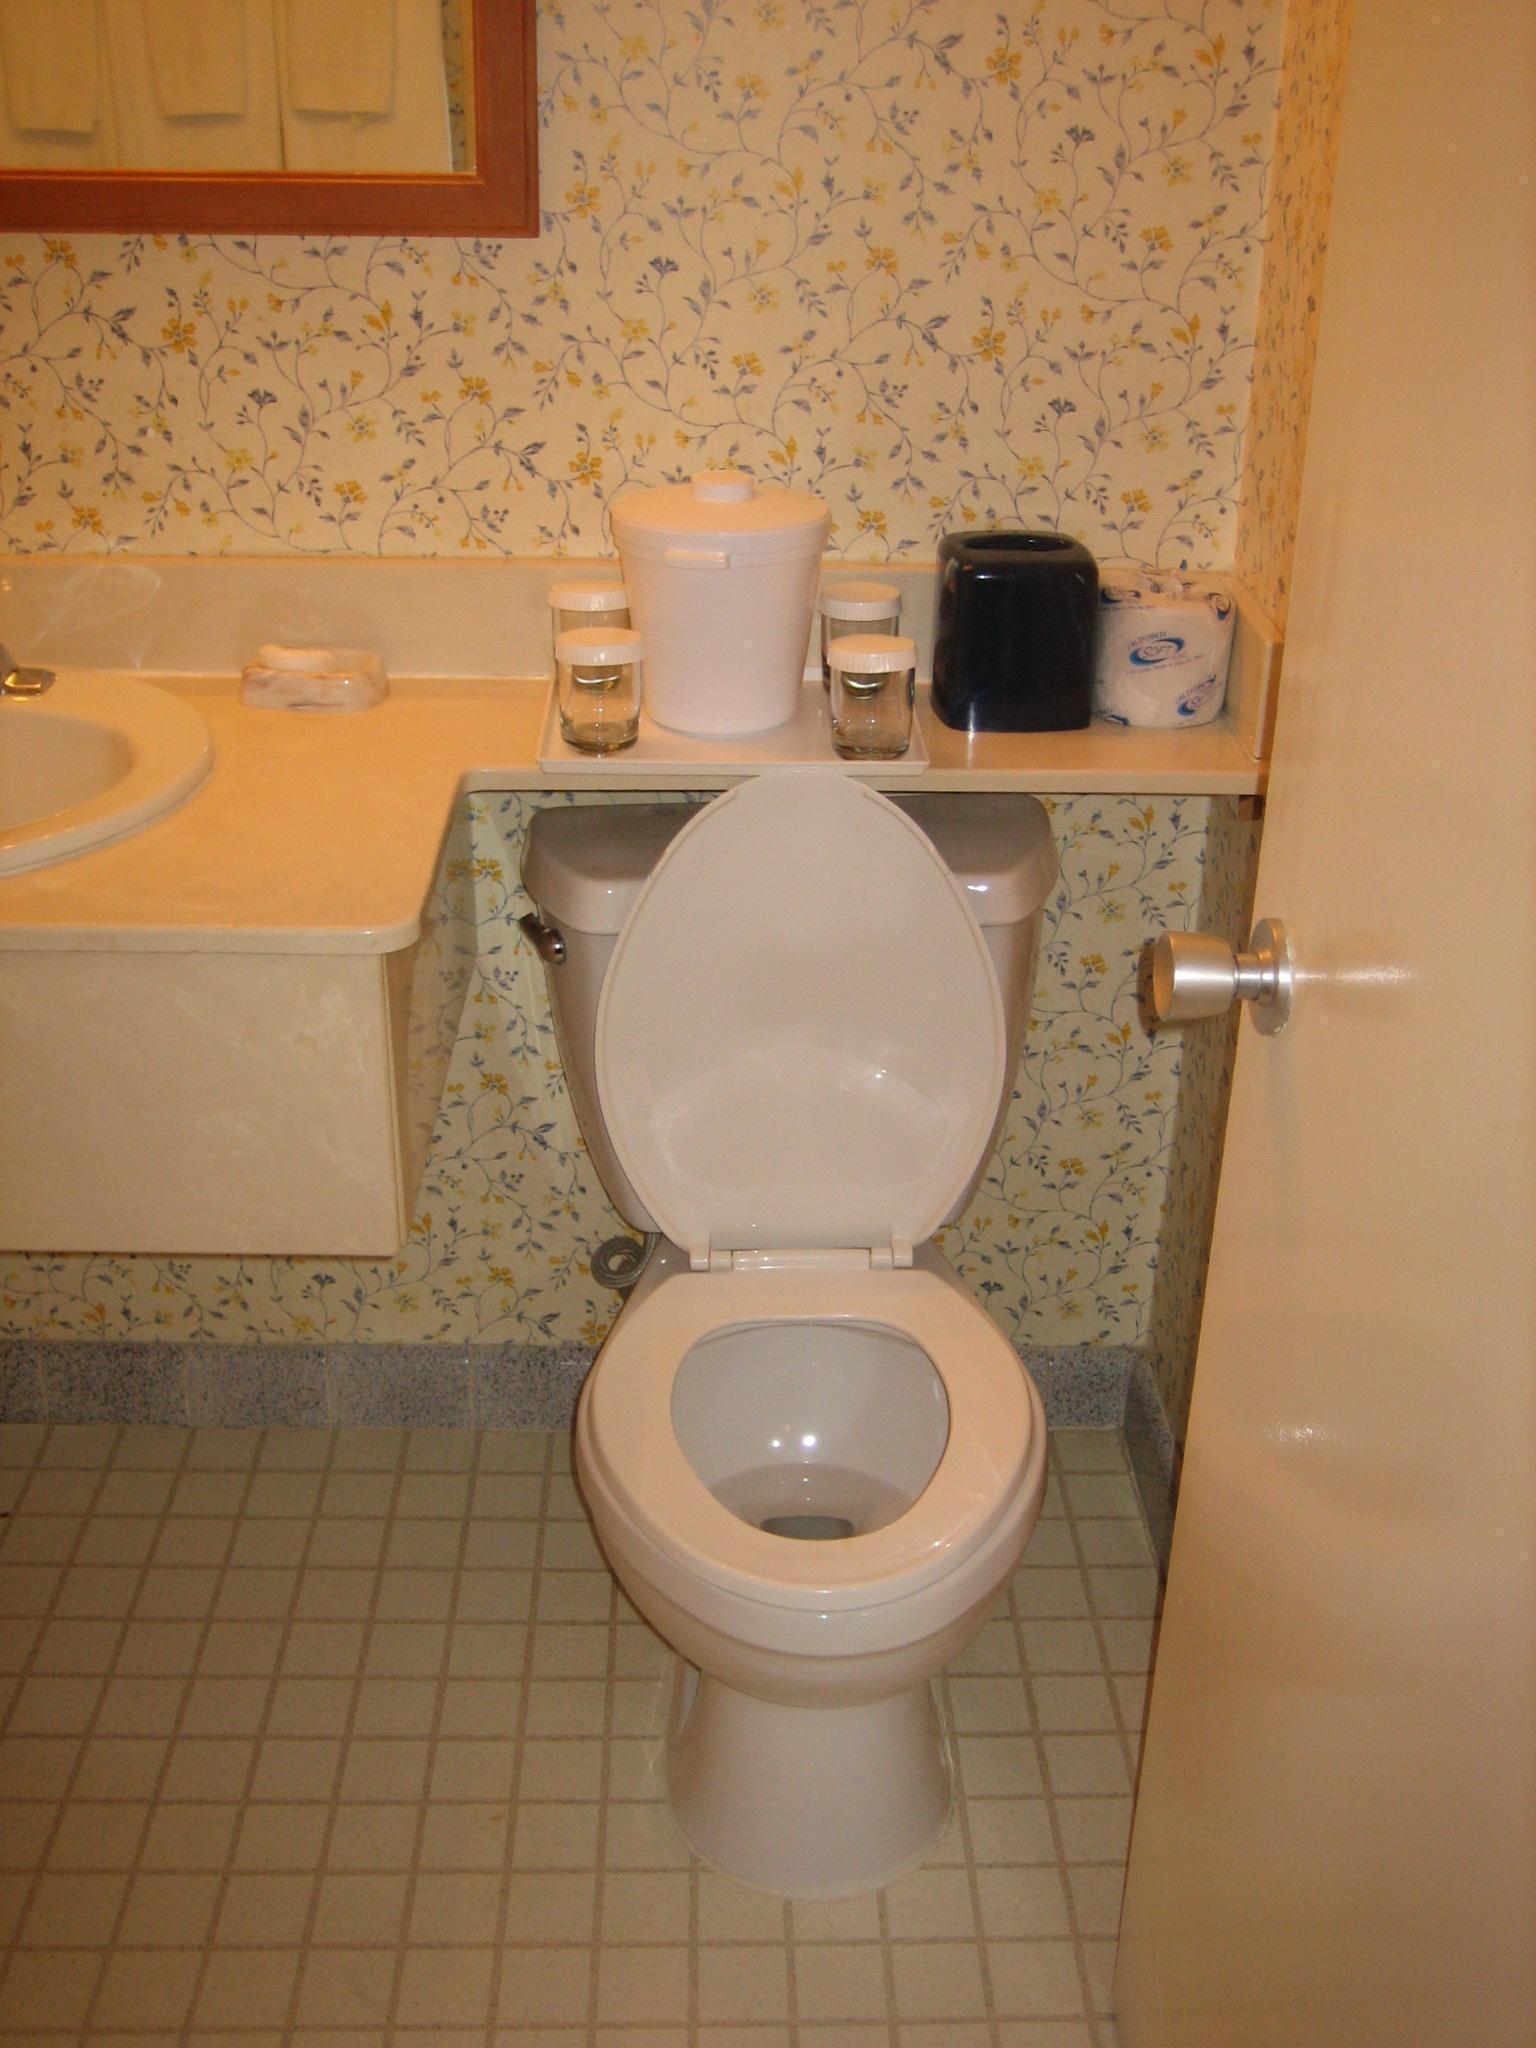Lavamanos: (31, 676, 437, 1293)
Puerta: (1104, 18, 1521, 2016)
Sanitario: (553, 803, 1054, 1850)
